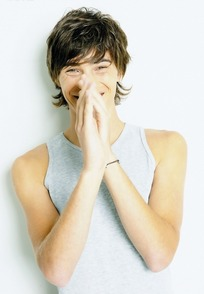face: (59, 55, 115, 123)
